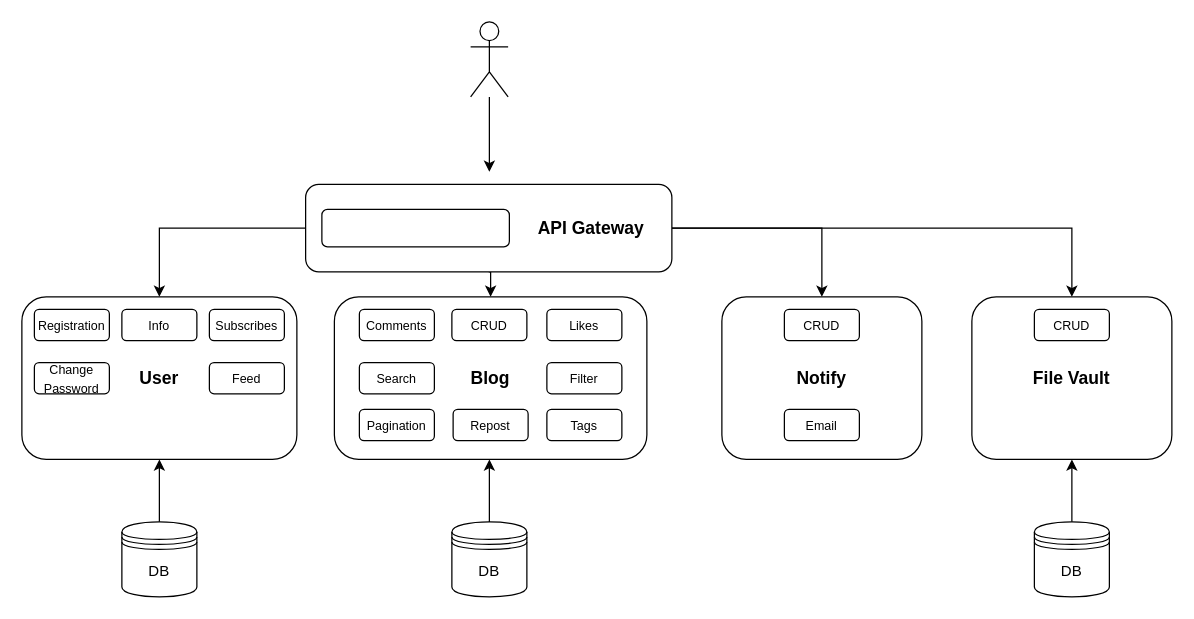
The diagram is 1194 pixels wide and 619 high, and some of its shapes have lost their labels. The shapes that lost their labels are listed below. From the top down, each one's centre as x and y in pixels, then its label:
At point 488,59: "Client".
At point 415,227: "Authentication/ Authorization".
